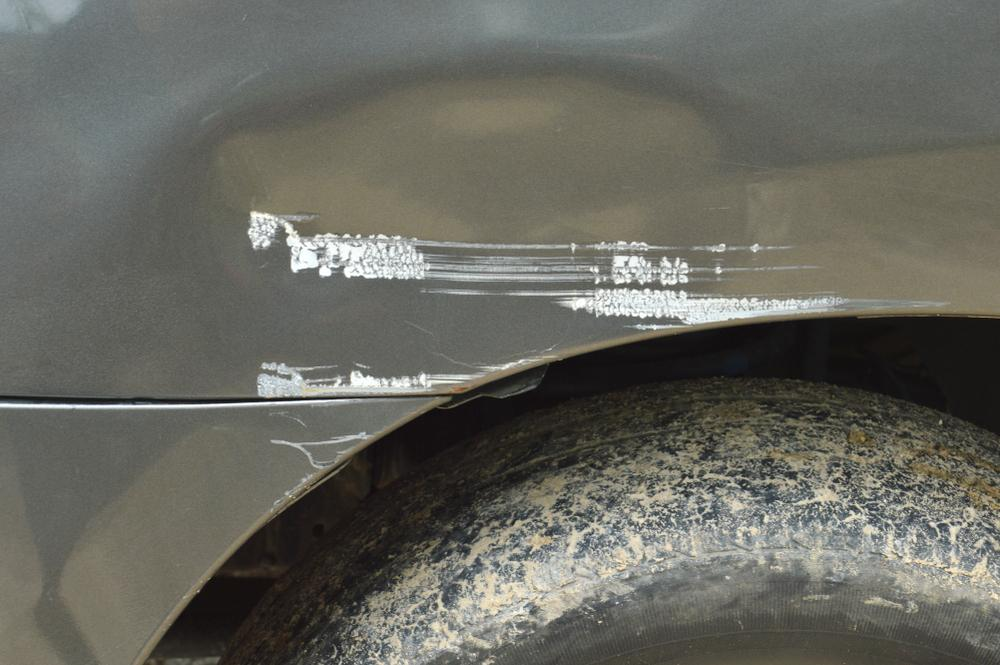dent: (202, 62, 794, 241)
scratch: (240, 206, 951, 335), (256, 341, 575, 399), (271, 430, 381, 471)
